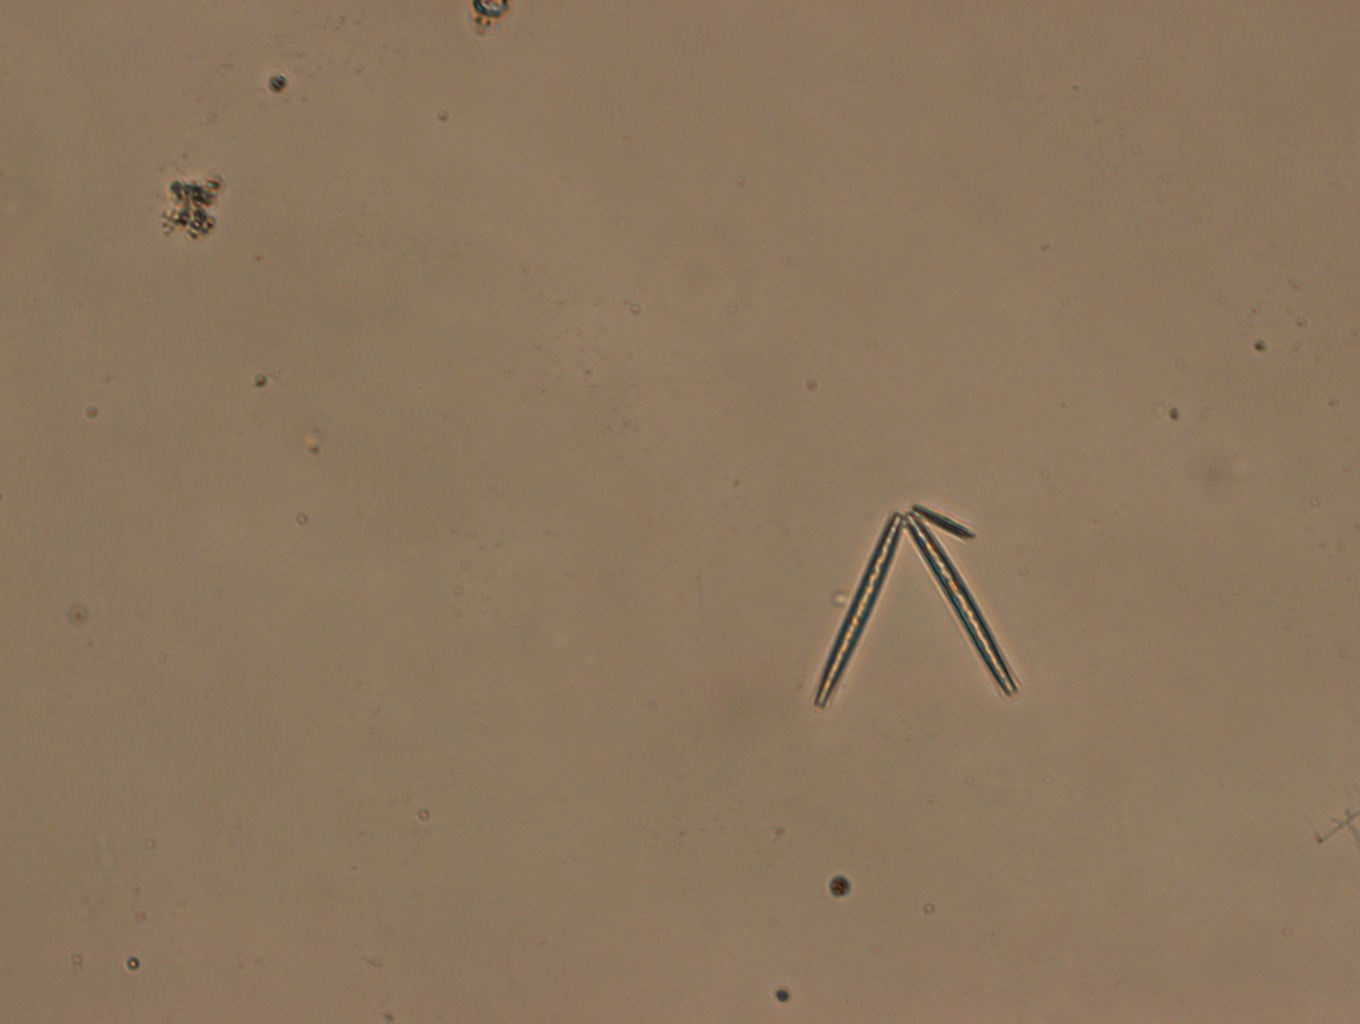thalassionema nitzschioides: (812, 511, 1017, 712)
